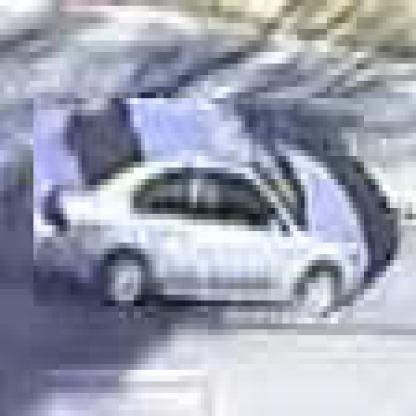car: (31, 99, 365, 313)
